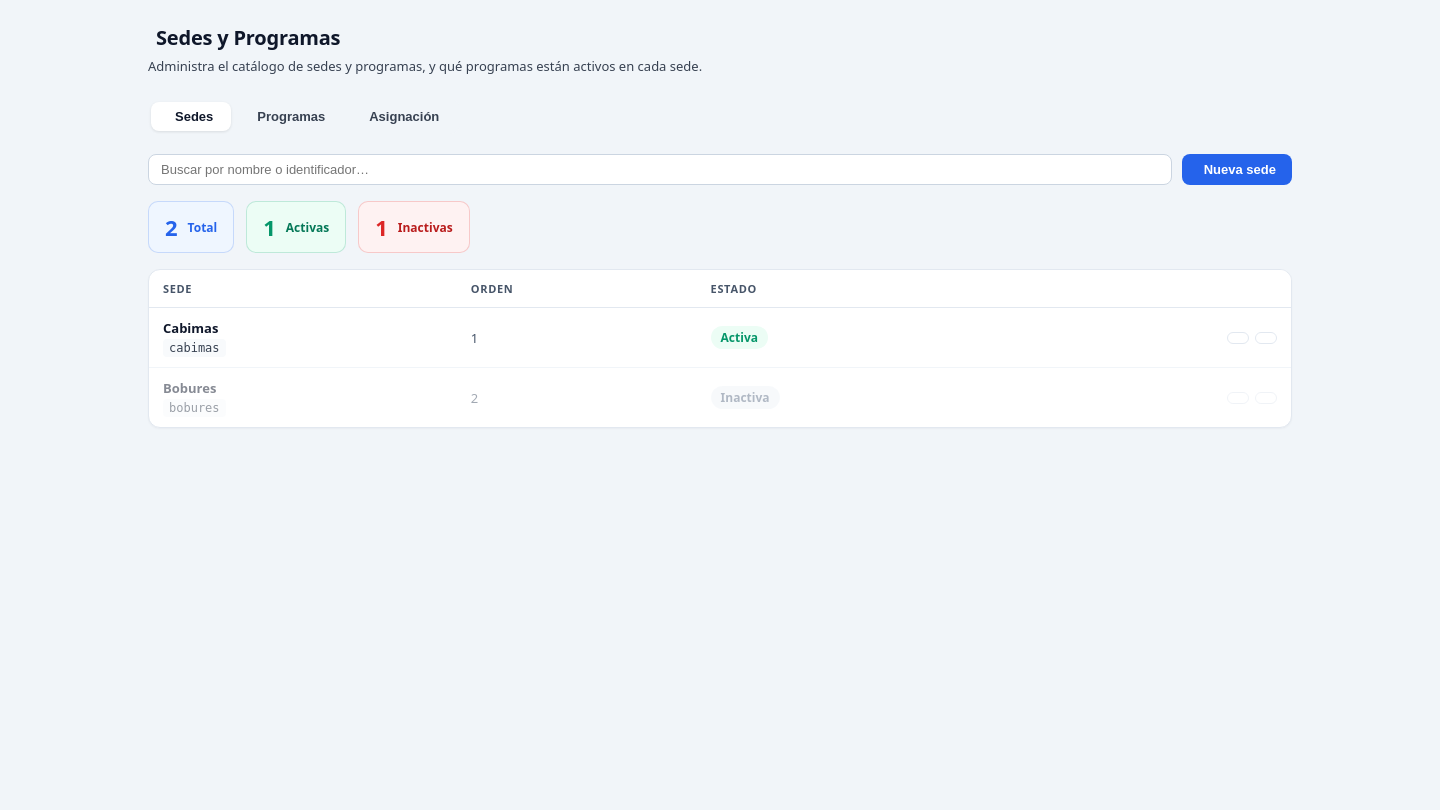
GestionSedes — alta de sede › genera el id (slug) a partir del nombre, sin tildes ni mayúsculas, y lo muestra antes de guardar
Expected: the text "Cabimas" is shown, [163,319,218,337]
Click the button "Nueva sede" at (1237, 170), box [1182,154,1292,185]
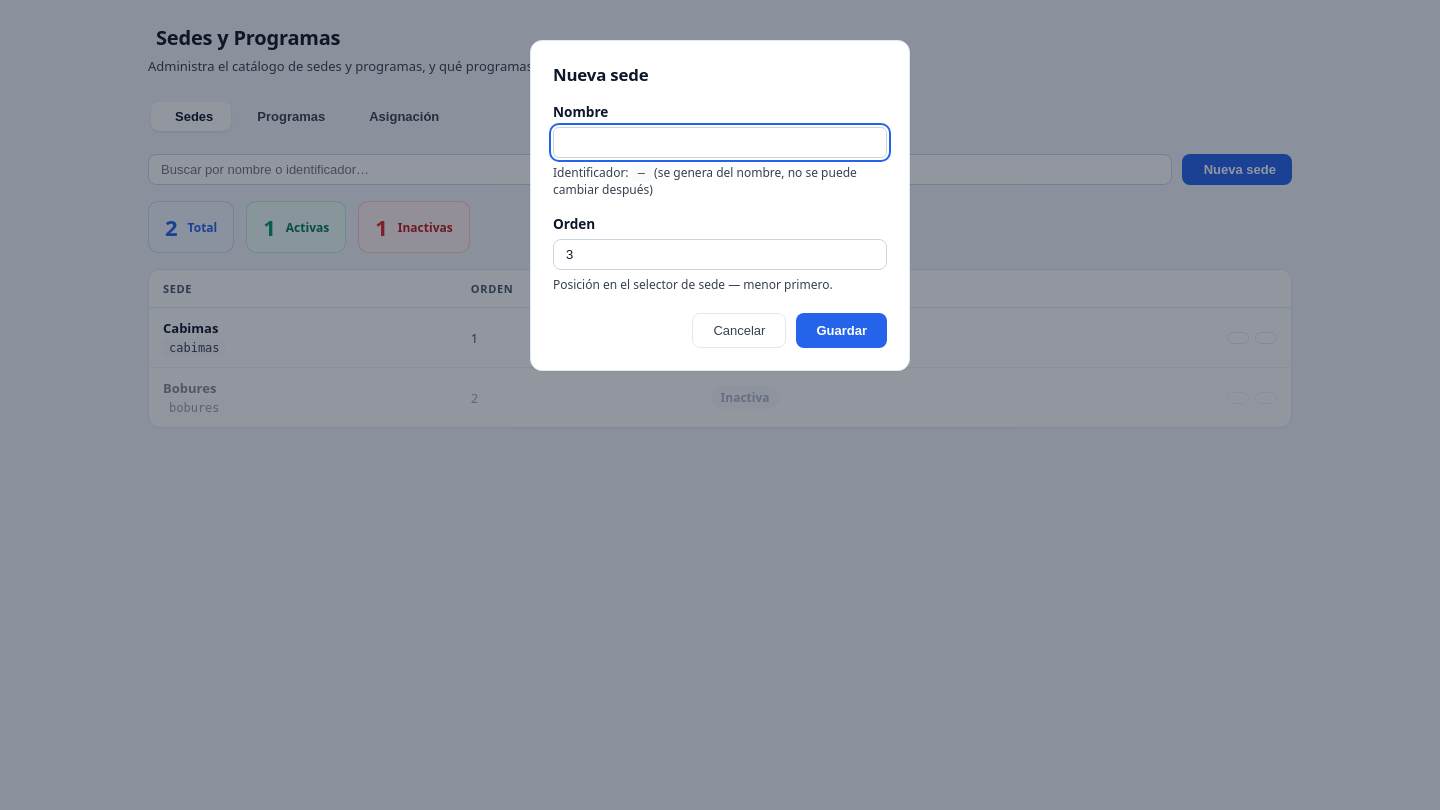
Type "San Francisco de Asís" into the field labelled "Nombre" at (720, 142), box [553,127,887,158]
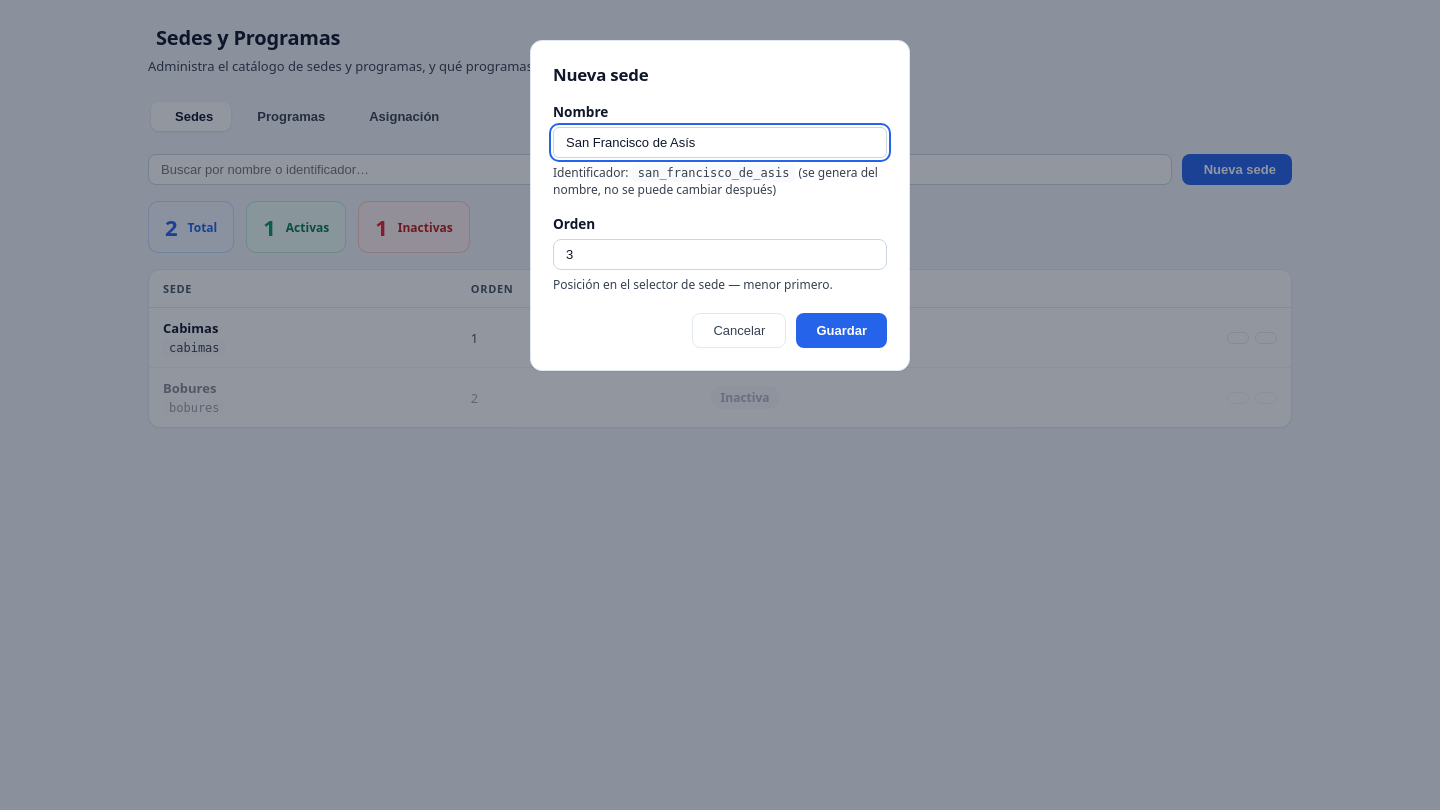
Expected: the text "san_francisco_de_asis" is shown, [632,164,795,182]
